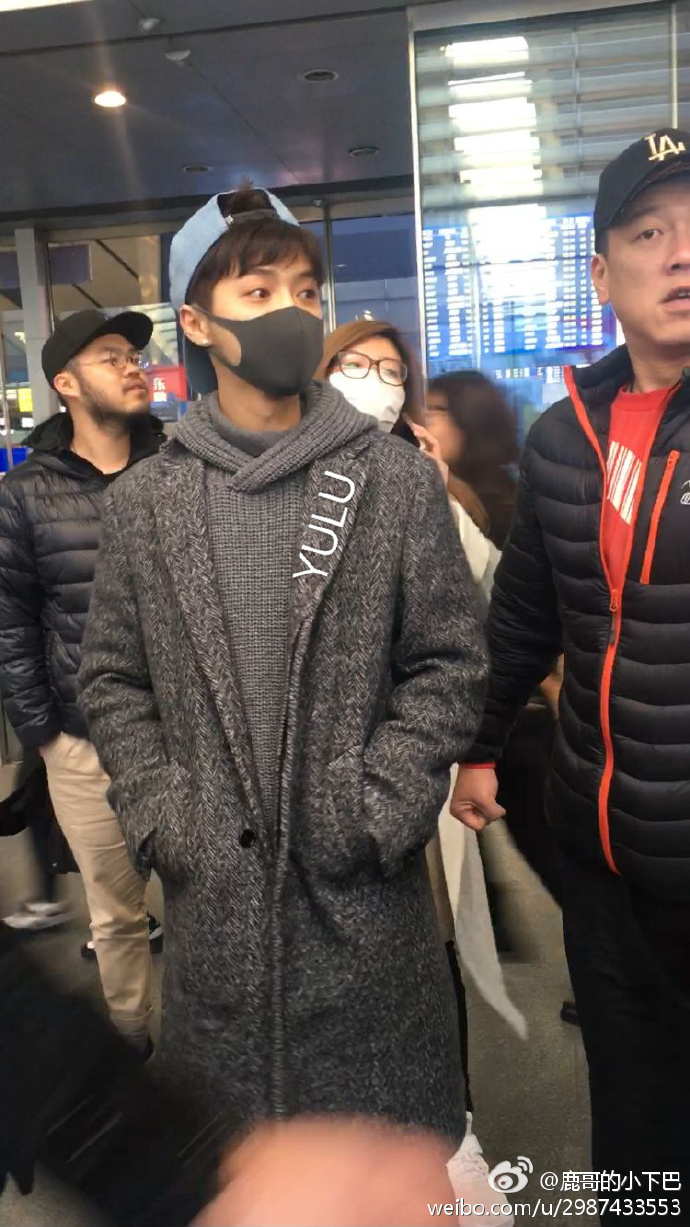mask: (208, 278, 364, 383)
